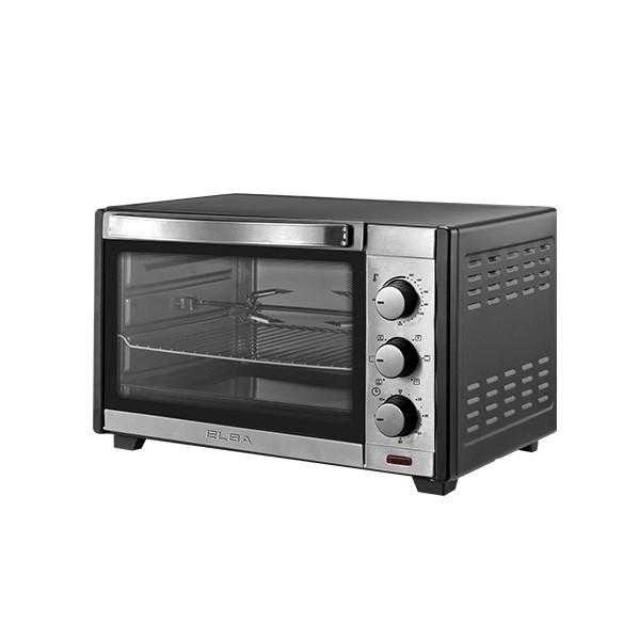Oven: (92, 193, 512, 487)
